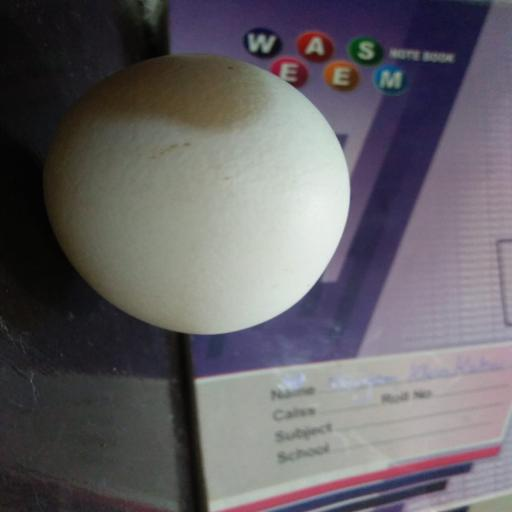telur: (40, 44, 366, 341)
